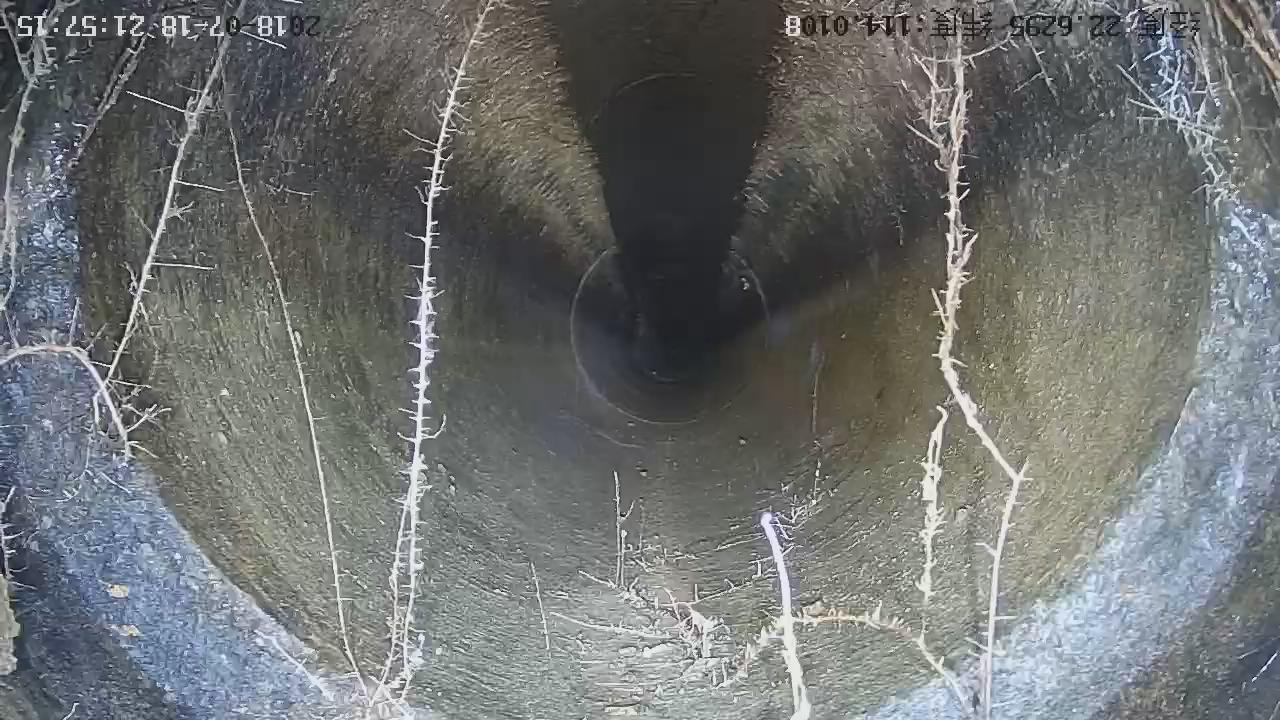SG: (523, 35, 1028, 720), (220, 1, 498, 720), (1, 15, 246, 466), (1, 1, 65, 324), (46, 16, 163, 184), (1123, 30, 1210, 147)
